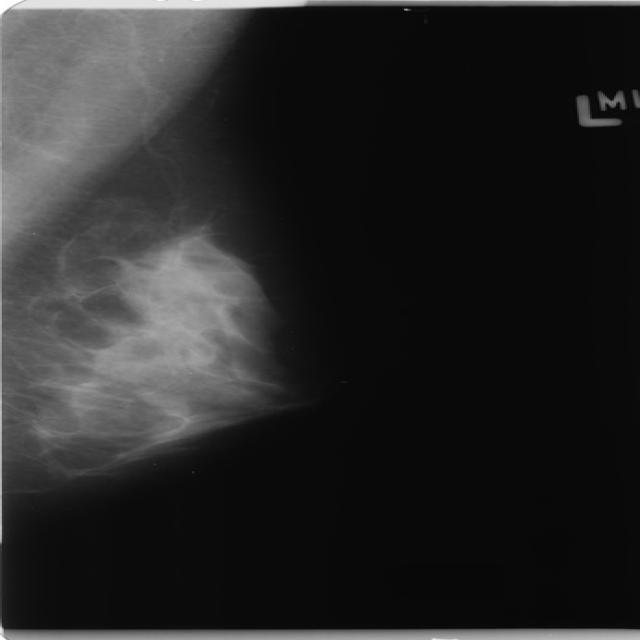tumour: (179, 343, 214, 366)
